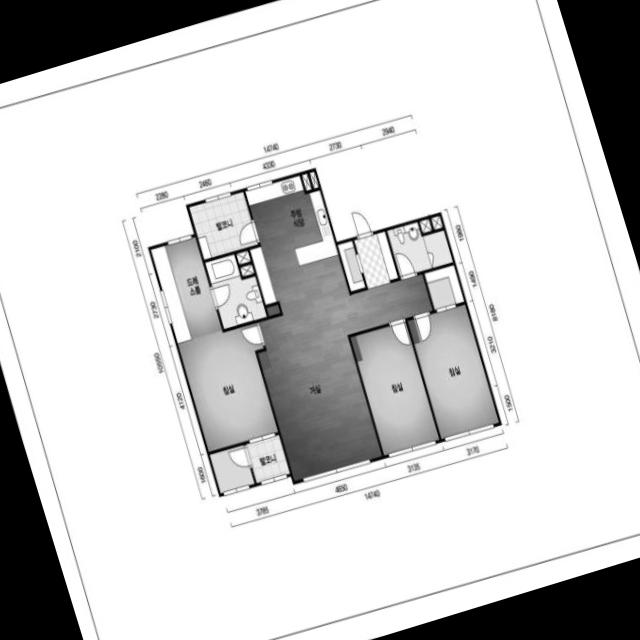background: (0, 0, 640, 640)
space_balconi: (189, 191, 257, 259), (245, 434, 289, 482)
space_bedroom: (177, 322, 277, 451), (407, 304, 498, 438), (349, 321, 438, 454)
space_dressroom: (150, 236, 221, 342), (423, 264, 463, 309)
space_front: (337, 230, 397, 291)
space_kitchen: (244, 175, 349, 314)
space_living_room: (257, 273, 432, 480)
space_other: (209, 444, 254, 493), (235, 249, 250, 264), (239, 263, 253, 276), (418, 218, 431, 232), (308, 170, 318, 188), (301, 173, 311, 190), (430, 215, 442, 229)
space_toilet: (204, 253, 266, 328), (386, 221, 452, 276)
